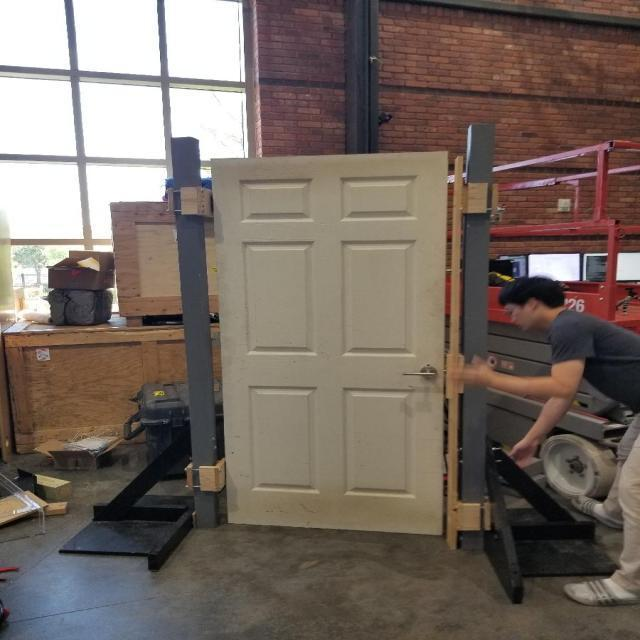door: (207, 148, 450, 538), (396, 362, 440, 386)
